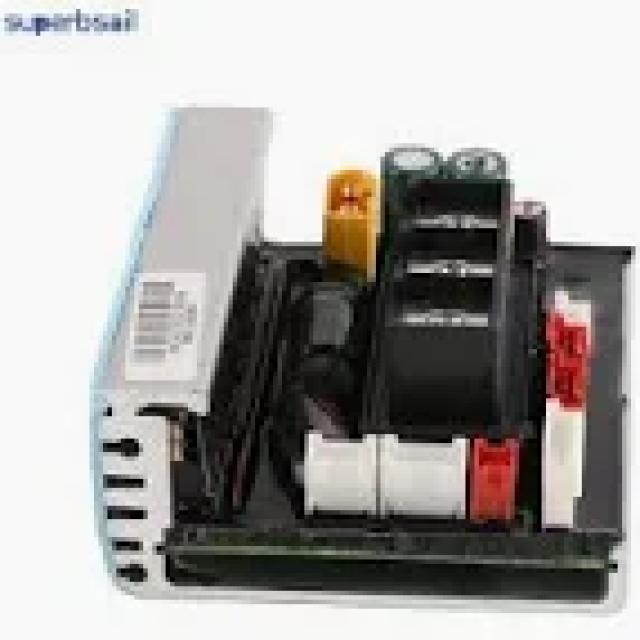pcb: (85, 103, 636, 604), (354, 138, 537, 438)
